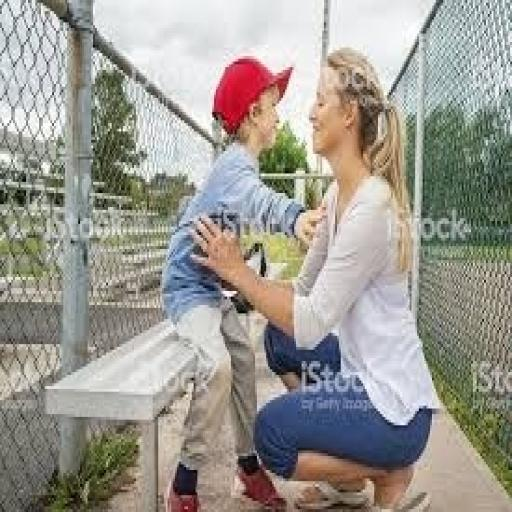hugging: (188, 45, 443, 509), (158, 50, 326, 510)
